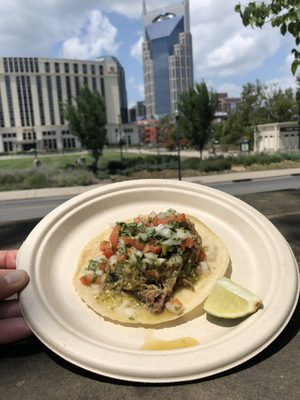steak: (203, 276, 263, 319)
taco: (203, 276, 264, 319)
